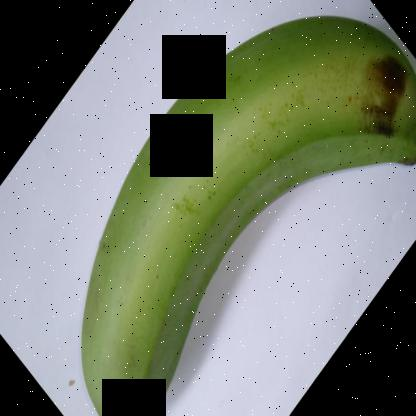freshunripe: (68, 1, 415, 415)
